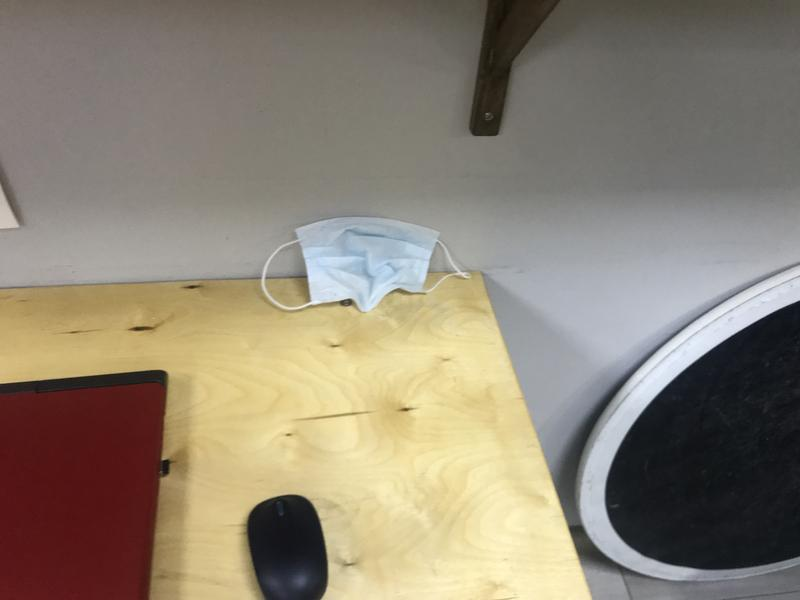medical_mask: (261, 219, 472, 313)
